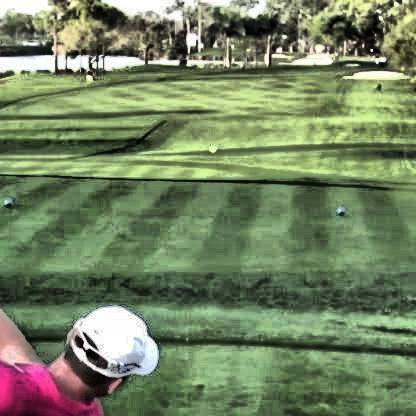golfball: (206, 142, 215, 151)
